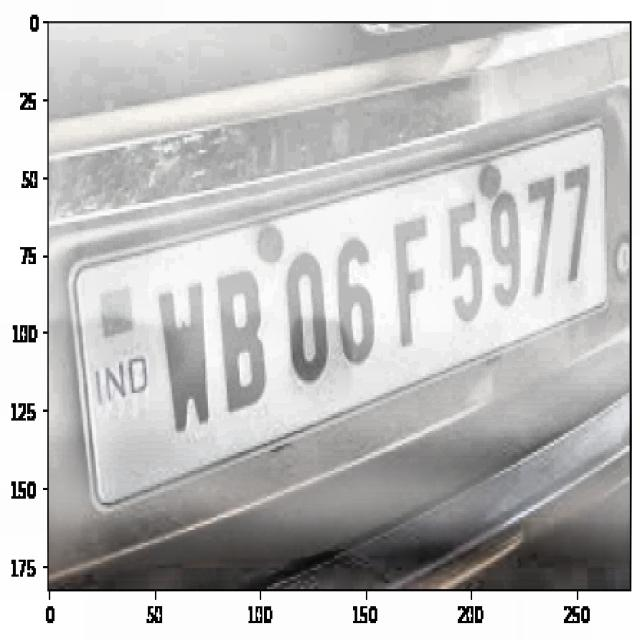license_plate: (137, 158, 605, 439)
